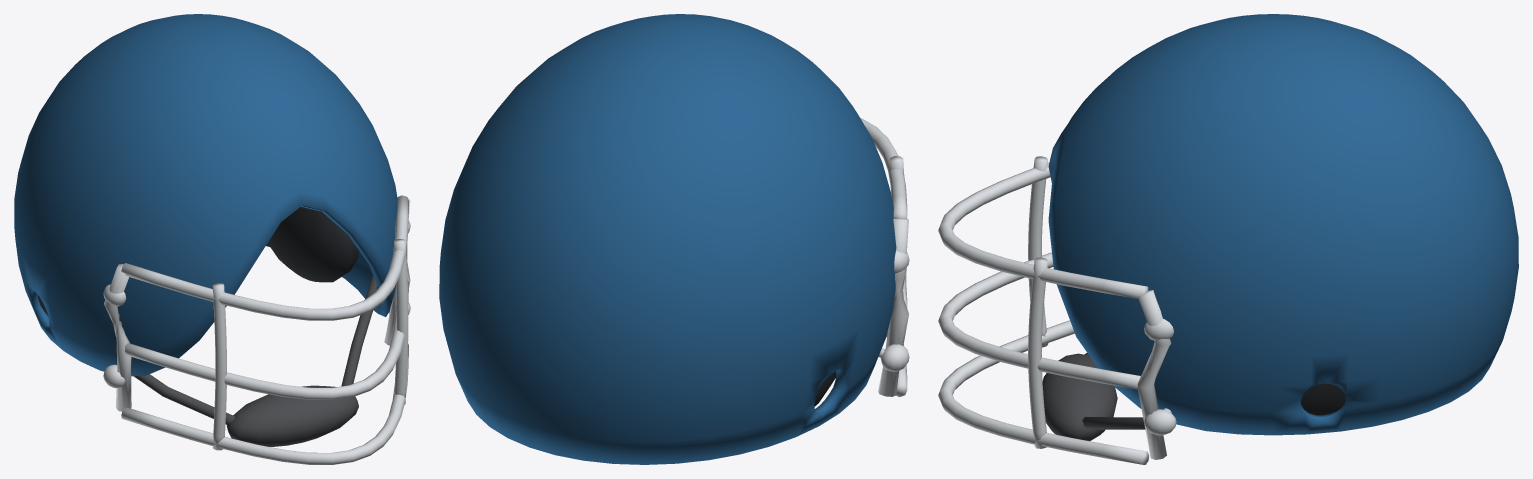
The picture shows the model from 3 angles, left to right: view 1: azimuth 30°, elevation 25°; view 2: azimuth 150°, elevation 25°; view 3: azimuth 270°, elevation 25°; orthographic projection. The views are drawn at different scales.
Parts seen in each view (by area): view 1: Protective shell with complete inner wall, Chin cup, Right cheek liner, Faceguard horizontal welded rail 0, Faceguard horizontal welded rail 2, Faceguard horizontal welded rail 1, Faceguard vertical welded stay 0, Side faceguard mounting bracket -1, Faceguard vertical welded stay 1, Chin retention strap -1, Chin retention strap 1, Side faceguard mounting bracket 1; view 2: Protective shell with complete inner wall, Side faceguard mounting bracket -1, Faceguard horizontal welded rail 0, Faceguard mounting hardware.001; view 3: Protective shell with complete inner wall, Faceguard horizontal welded rail 0, Faceguard horizontal welded rail 2, Faceguard horizontal welded rail 1, Chin cup, Faceguard vertical welded stay 1, Side faceguard mounting bracket 1, Faceguard vertical welded stay 0, Right cheek liner, Chin retention strap 1, Faceguard mounting hardware.003.
Part boxes in pixels (box(x1,y1,x2,y2)): Protective shell with complete inner wall: box(14, 14, 397, 376); Chin cup: box(226, 385, 358, 446); Right cheek liner: box(268, 207, 359, 282); Faceguard horizontal welded rail 0: box(121, 195, 408, 320); Faceguard horizontal welded rail 2: box(121, 343, 408, 464); Faceguard horizontal welded rail 1: box(124, 279, 408, 399); Faceguard vertical welded stay 0: box(212, 283, 226, 450); Side faceguard mounting bracket -1: box(104, 264, 131, 411); Faceguard vertical welded stay 1: box(394, 239, 408, 404); Chin retention strap -1: box(90, 346, 234, 425); Chin retention strap 1: box(341, 274, 377, 386); Side faceguard mounting bracket 1: box(384, 195, 410, 345); Protective shell with complete inner wall: box(439, 14, 896, 464); Side faceguard mounting bracket -1: box(878, 218, 908, 396); Faceguard horizontal welded rail 0: box(860, 118, 907, 219); Faceguard mounting hardware.001: box(880, 344, 909, 371); Protective shell with complete inner wall: box(1048, 14, 1518, 435); Faceguard horizontal welded rail 0: box(938, 163, 1148, 298); Faceguard horizontal welded rail 2: box(938, 320, 1149, 464); Faceguard horizontal welded rail 1: box(938, 252, 1140, 389); Chin cup: box(1042, 353, 1117, 440); Faceguard vertical welded stay 1: box(1028, 257, 1048, 448); Side faceguard mounting bracket 1: box(1137, 290, 1171, 459); Faceguard vertical welded stay 0: box(1028, 156, 1048, 347); Right cheek liner: box(1300, 383, 1345, 415); Chin retention strap 1: box(1082, 405, 1206, 429); Faceguard mounting hardware.003: box(1144, 409, 1176, 435).
Size of the model in its own units: 0.2595 by 0.265 by 0.3542.
